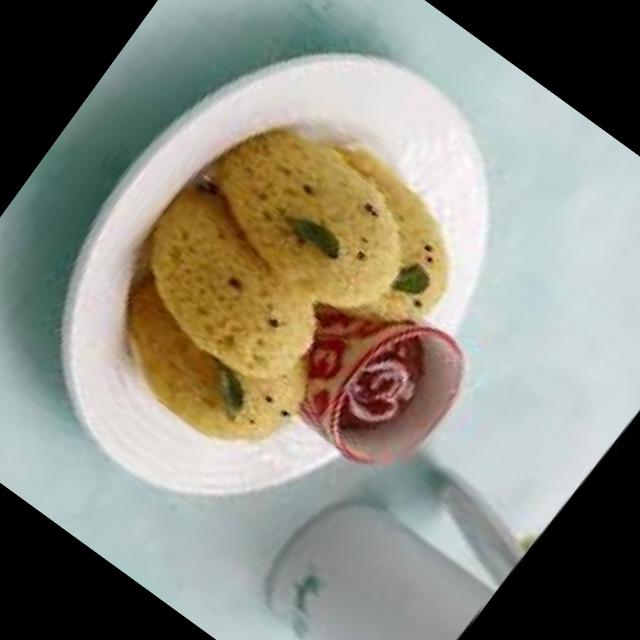idli: (182, 99, 435, 334), (110, 172, 354, 401), (86, 250, 327, 472), (255, 132, 484, 353)
